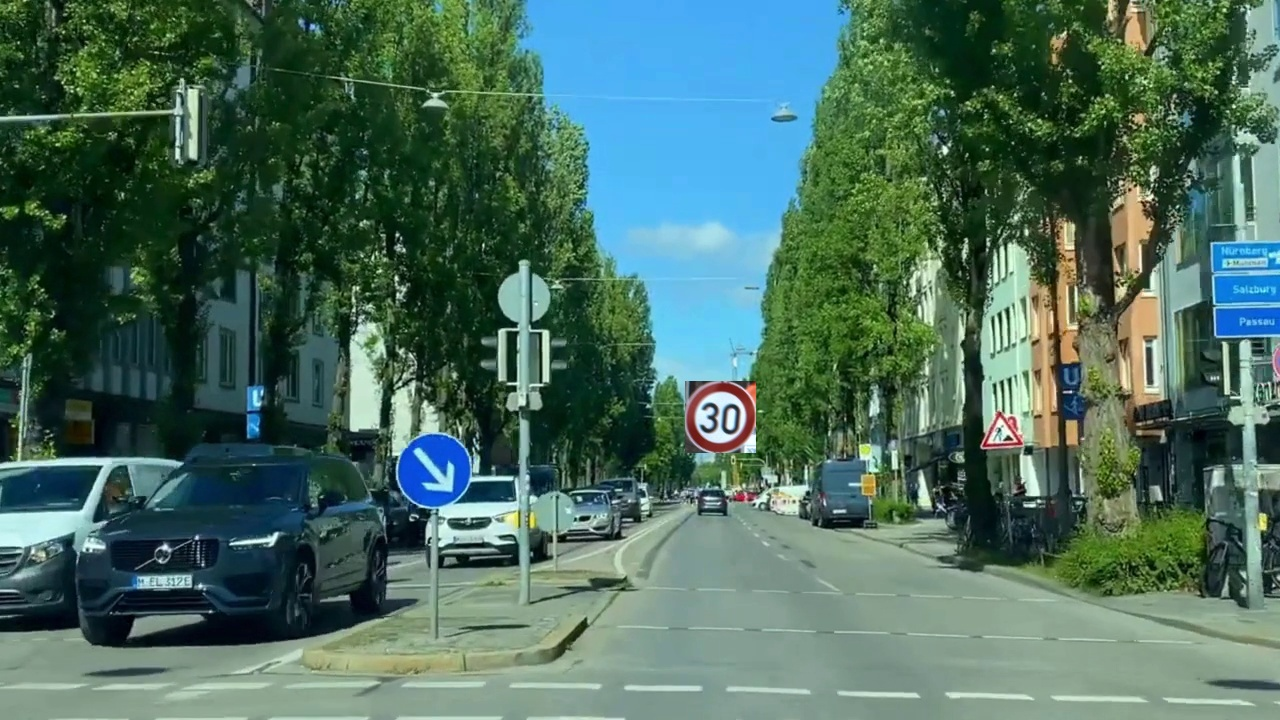Speed 30: (685, 381, 756, 453)
